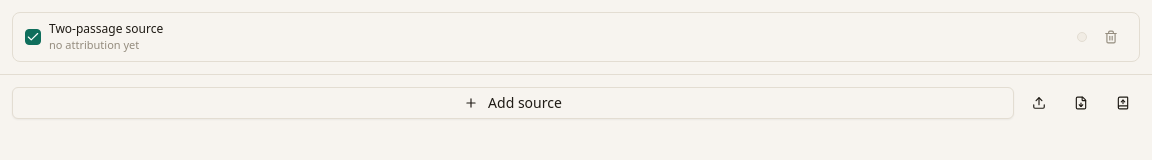
Test case: SourcesPanel persistence errors (B13) › shows a metadata save failure instead of acknowledging success
Click the checkbox named "Include “Two-passage source” in AI context": (33, 37) [25,29,41,45]
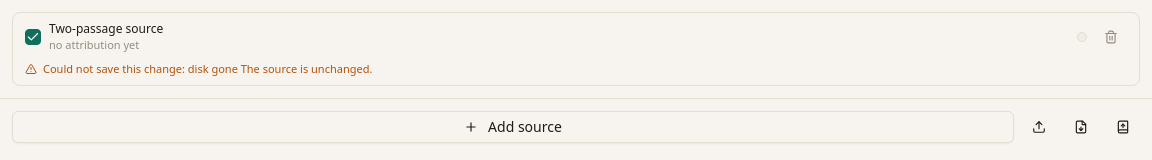
Result: the message shows "disk gone" at [188,61,238,76]
